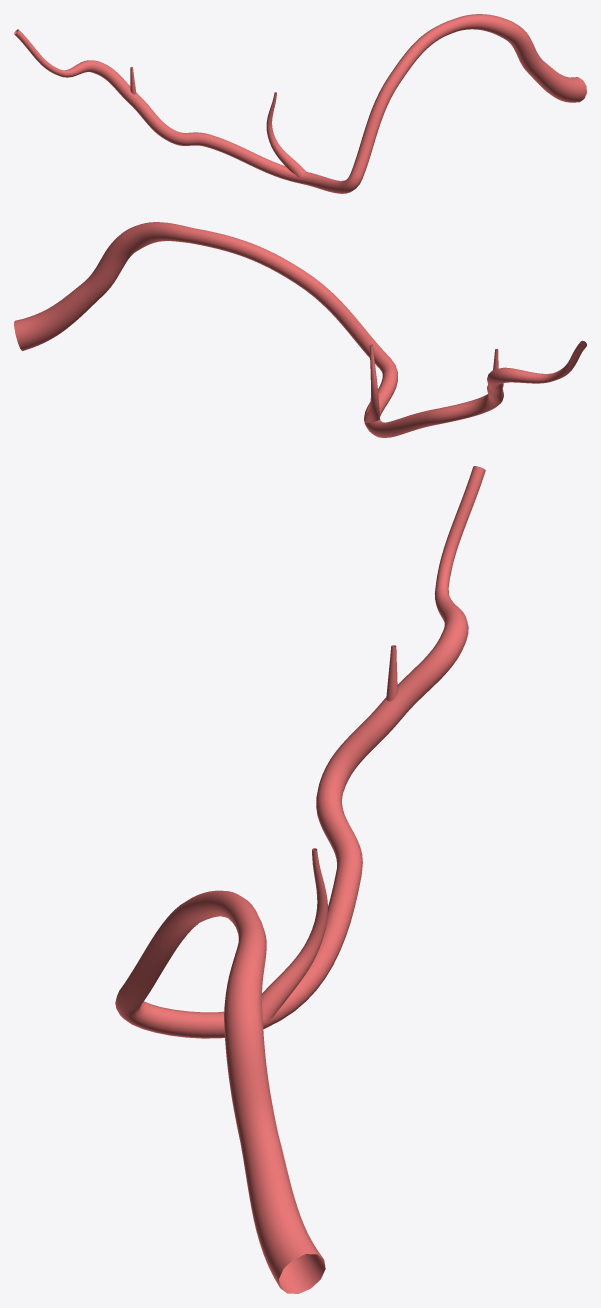
File: Proper_hepatic_artery.glb
The picture shows the model from 3 angles, top to bottom: view 1: azimuth 30°, elevation 25°; view 2: azimuth 150°, elevation 25°; view 3: azimuth 270°, elevation 25°; orthographic projection. The views are drawn at different scales.
Visible parts, largest first — view 1: Proper_hepatic_artery_BezierCurve.036; view 2: Proper_hepatic_artery_BezierCurve.036; view 3: Proper_hepatic_artery_BezierCurve.036.
Part boxes in pixels (left/top/right/bottom): Proper_hepatic_artery_BezierCurve.036: left=14, top=14, right=586, bottom=193; Proper_hepatic_artery_BezierCurve.036: left=14, top=222, right=586, bottom=437; Proper_hepatic_artery_BezierCurve.036: left=115, top=466, right=485, bottom=1293.
Size of the model in its own units: 0.0921 by 0.0285 by 0.0282.
